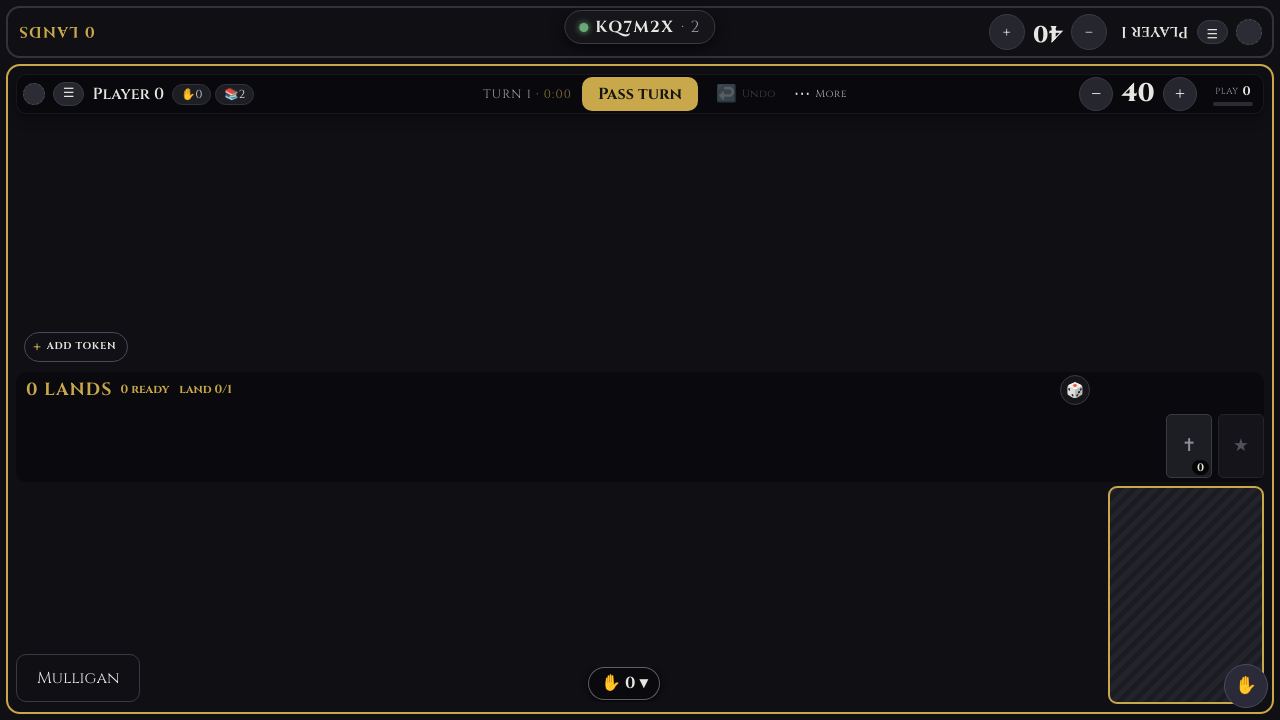
Test case: a claimed cards seat offers the hand view and switches both ways
Click the button named "my hand" at (1246, 686), box [1224,664,1268,708]
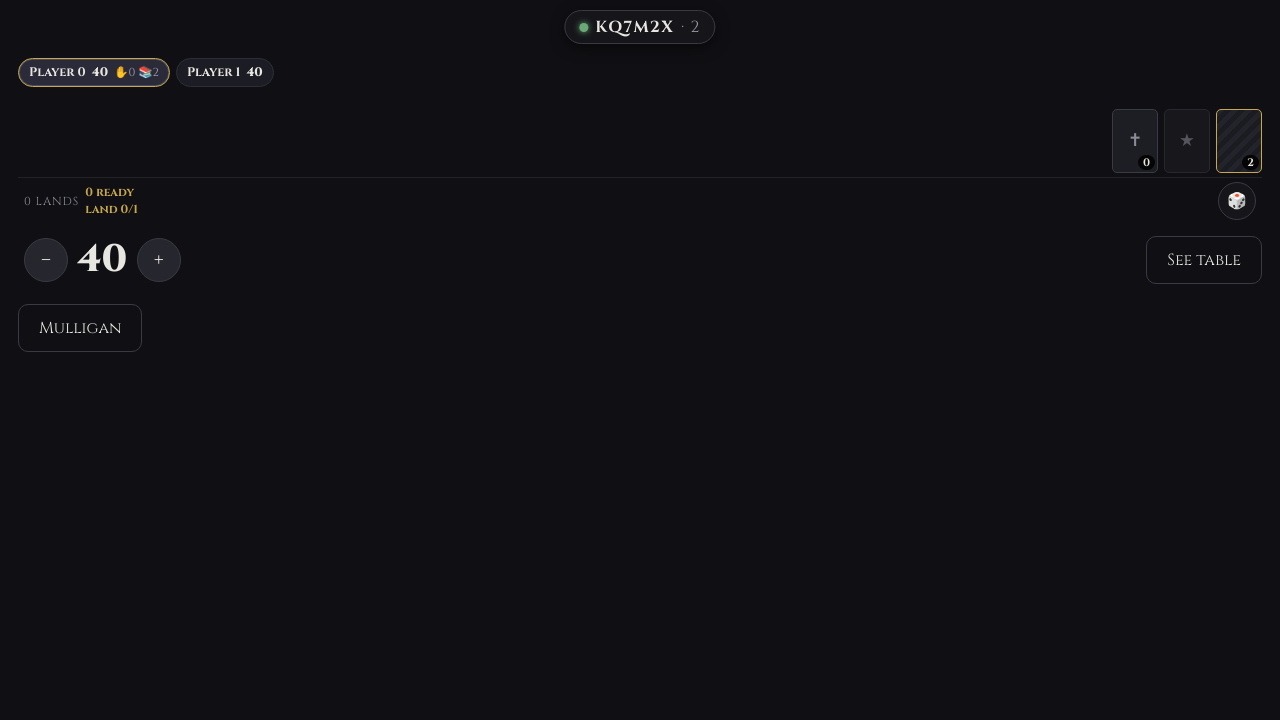
Now the button "See table" is shown
Now no elements with class "zone" are shown
Click the button "See table" at (1204, 260), box [1146,236,1262,284]
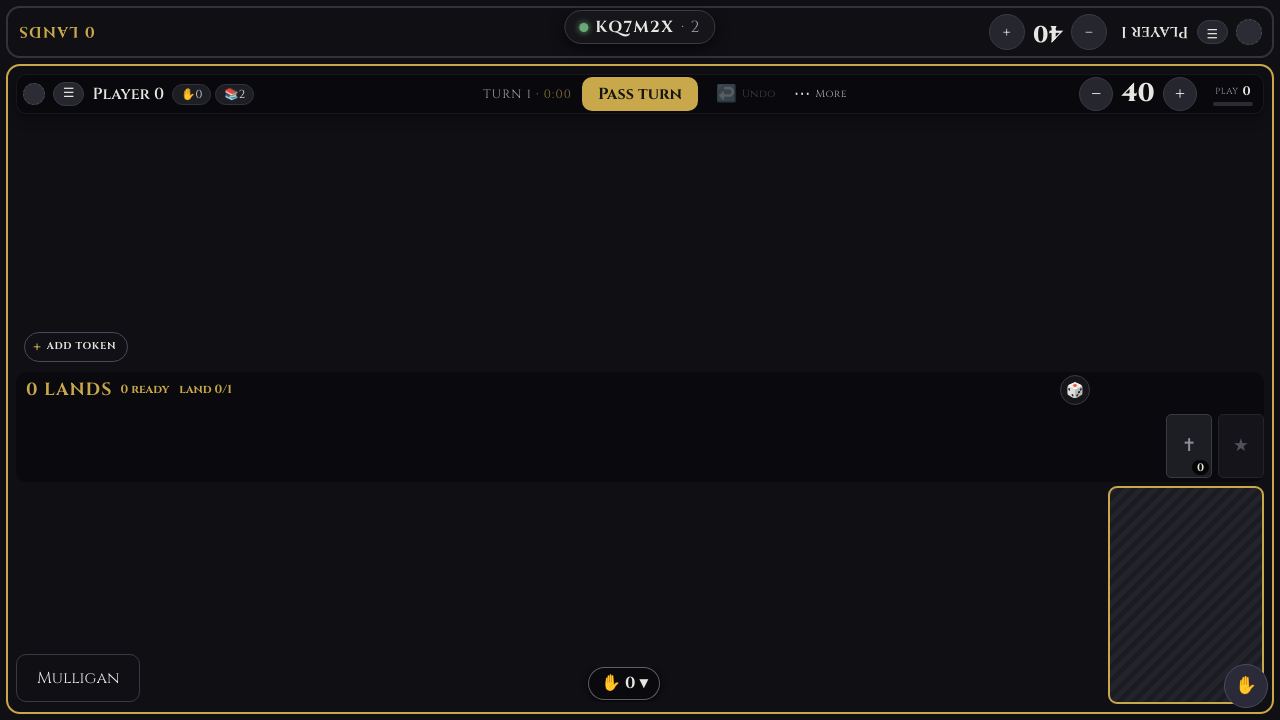
Now the number of elements with class "zone" is 2
